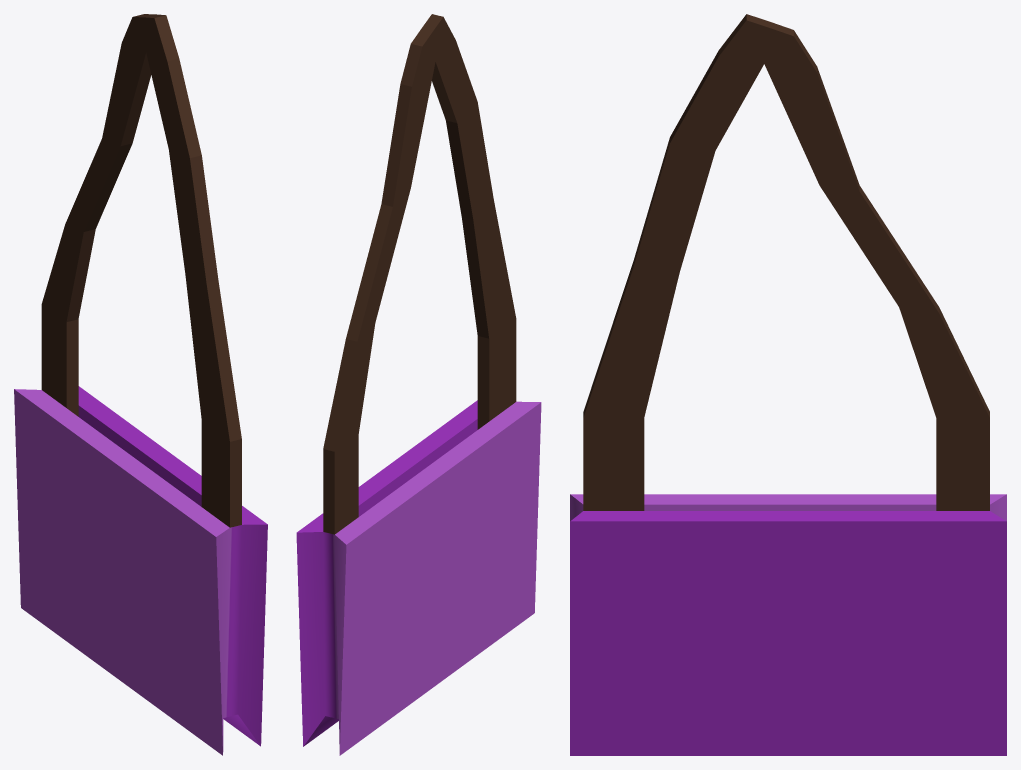
File: hand_bag.fbx
3 views of the same model, side by side, from view 1: azimuth 30°, elevation 25°; view 2: azimuth 150°, elevation 25°; view 3: azimuth 270°, elevation 25° (orthographic). The views are drawn at different scales.
Visible parts, largest first — view 1: headbag; view 2: headbag; view 3: headbag.
Boxes of the visible parts, x1=… form: headbag: x1=14, y1=14, x2=267, y2=755; headbag: x1=296, y1=14, x2=541, y2=755; headbag: x1=570, y1=14, x2=1006, y2=755.
Size of the model in its own units: 4.8 by 59.73 by 32.44.
